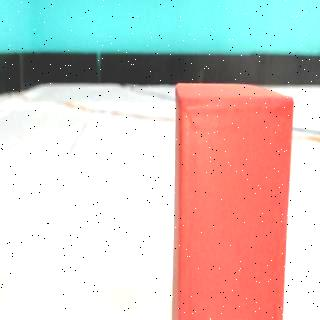redbox: (178, 84, 284, 320)
